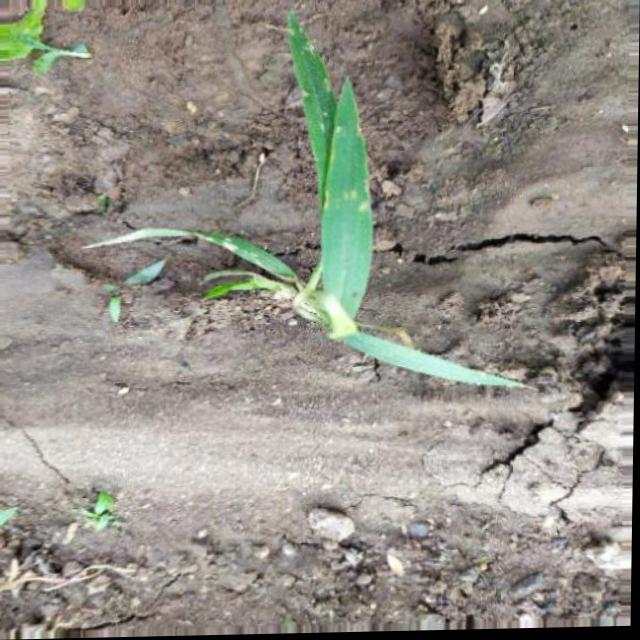weed: (77, 19, 549, 419)
